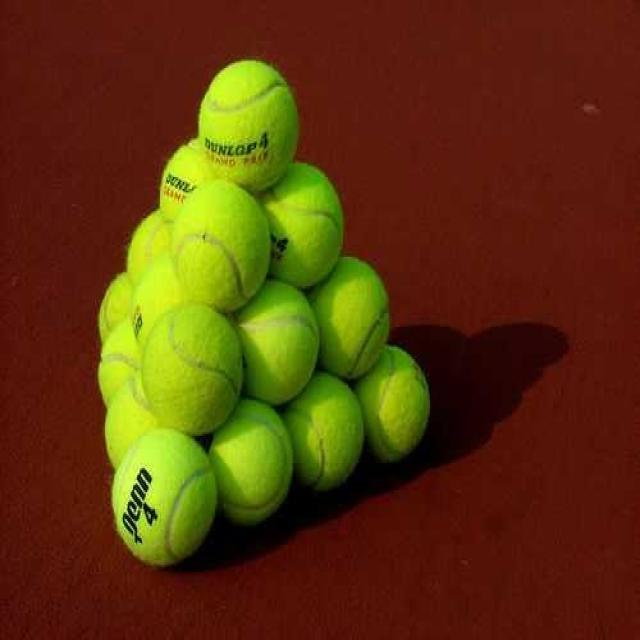Tennis_Ball: (125, 435, 216, 560), (260, 161, 352, 283), (176, 174, 264, 298), (152, 303, 238, 429), (205, 56, 287, 175), (212, 404, 297, 515), (295, 368, 369, 495), (243, 282, 320, 399), (324, 264, 396, 374), (365, 350, 433, 455), (107, 376, 156, 469), (162, 130, 212, 203), (101, 269, 143, 344), (99, 325, 136, 402), (130, 212, 174, 272)
